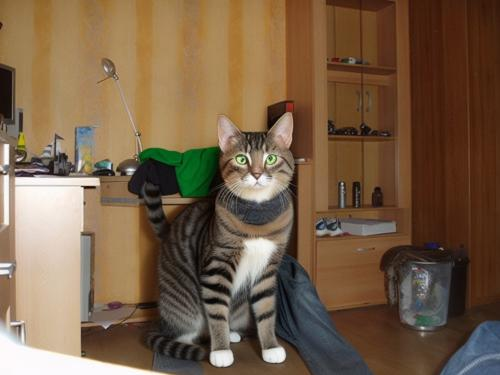cat: (139, 108, 298, 367)
person: (128, 114, 375, 375)
person/hand: (225, 181, 253, 201), (190, 183, 205, 199)
person/head: (189, 117, 228, 169)
tvmonitor: (1, 64, 17, 127)
